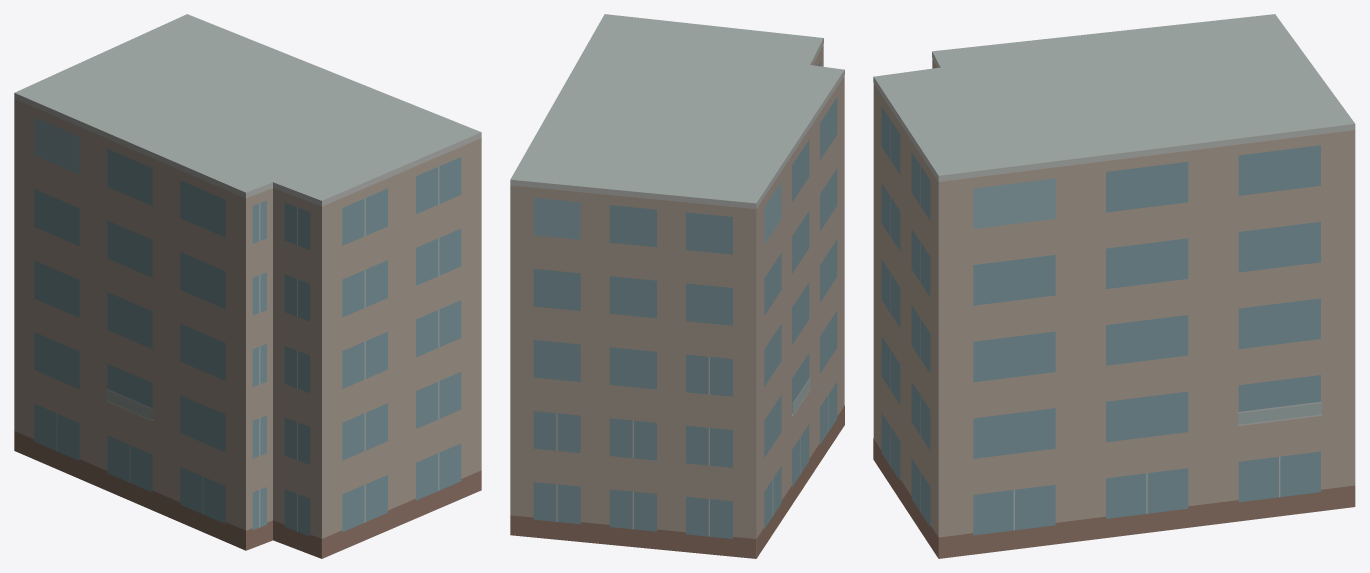
The model's file is survey-upis-32862381.glb.
3 views of the same model, side by side, from view 1: azimuth 30°, elevation 25°; view 2: azimuth 150°, elevation 25°; view 3: azimuth 270°, elevation 25° (orthographic). The views are drawn at different scales.
Parts seen in each view (by area): view 1: survey-upis-32862381.tmp; view 2: survey-upis-32862381.tmp; view 3: survey-upis-32862381.tmp.
Boxes of the visible parts, x1,y1,x2,y2 form: survey-upis-32862381.tmp: (14, 14, 481, 558); survey-upis-32862381.tmp: (510, 14, 844, 558); survey-upis-32862381.tmp: (873, 14, 1355, 558).
Size of the model in its own units: 13.79 by 15.2 by 17.34.
